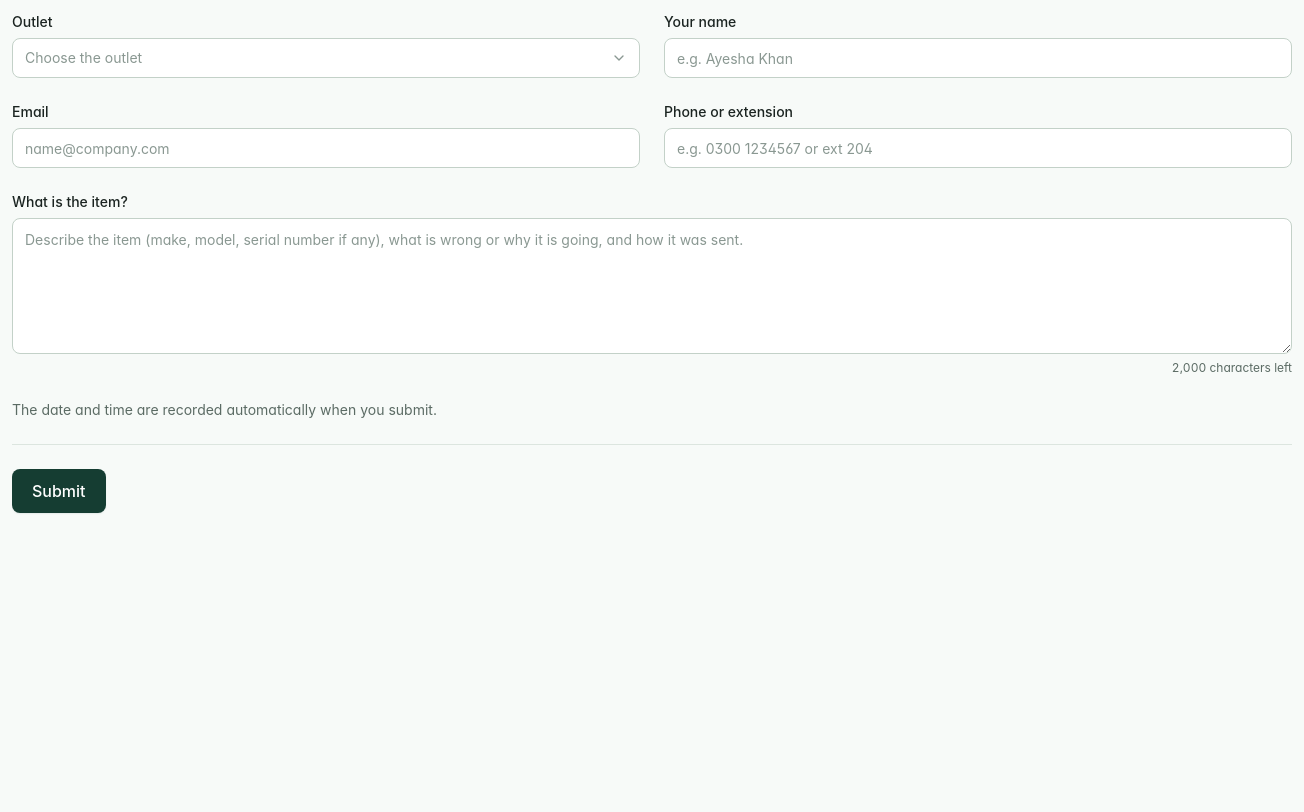
Test: TransferForm (public) › sends nothing and shows a message under every empty required field
What coordinates should you click on to do the following:
click the button "Submit"
I would click on:
 (59, 491)
Its box is x1=12 y1=469 x2=106 y2=513.
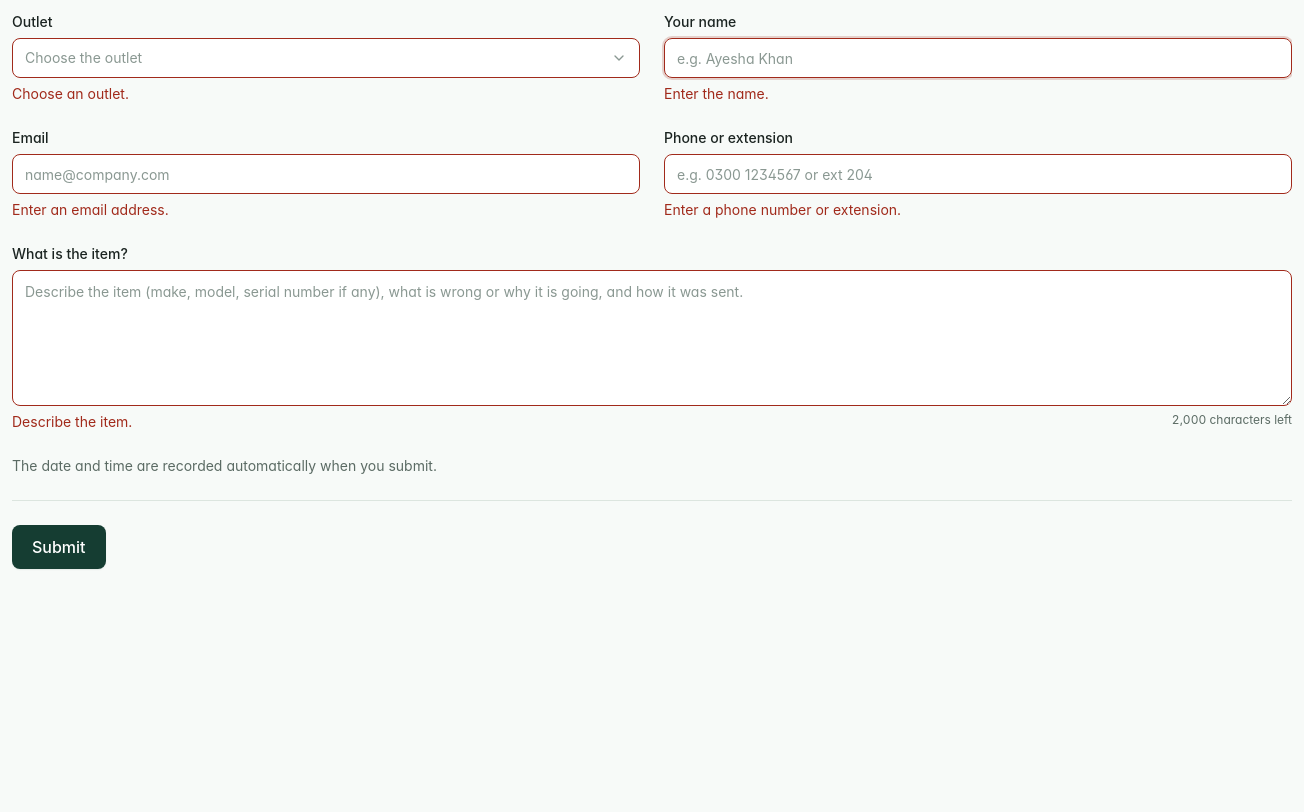
Result: the text "Enter the name." is shown at x1=664 y1=85 x2=769 y2=102
Result: the text "Enter an email address." is shown at x1=12 y1=201 x2=169 y2=218
Result: the text "Enter a phone number or extension." is shown at x1=664 y1=201 x2=901 y2=218
